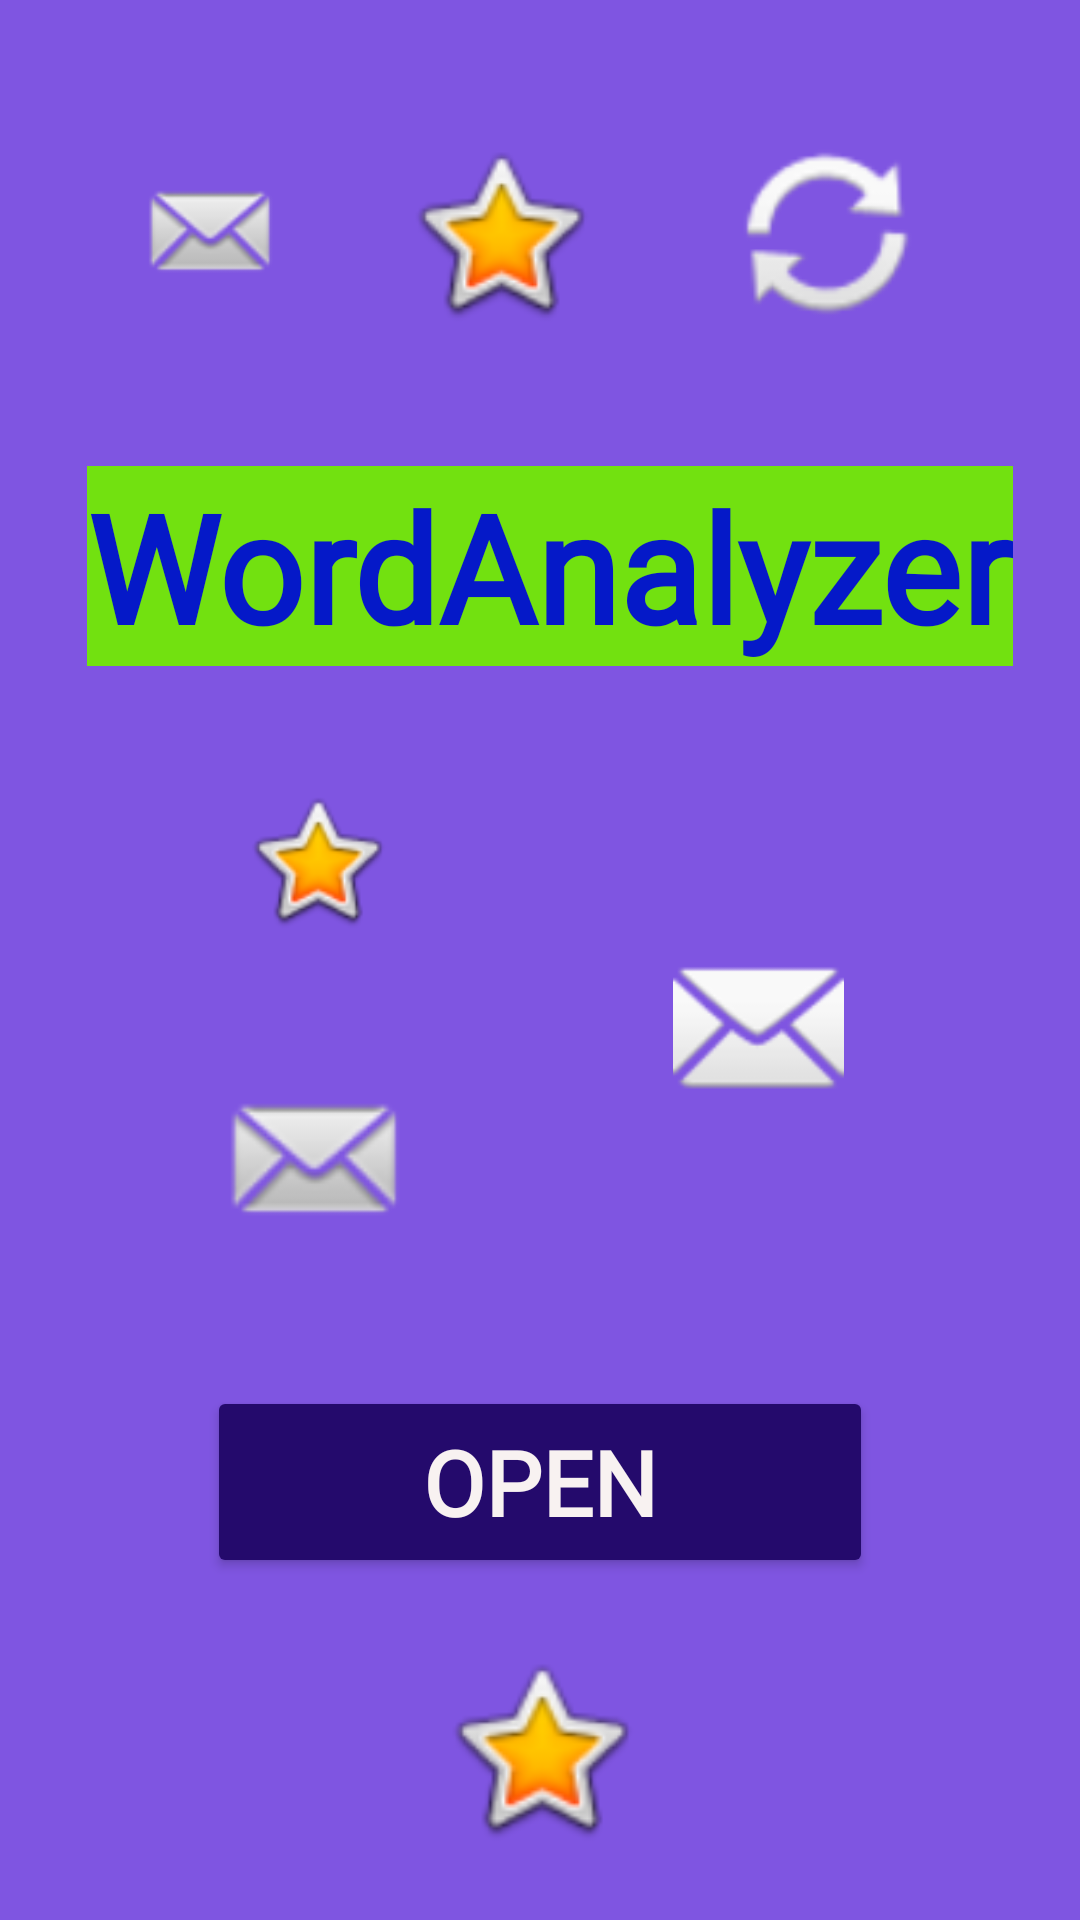

Screen size 1080px×1920px. Icon name, then its box in pixels as {"left": x1, "top": y1, "right": x2, "bottom": y2}:
email: {"left": 673, "top": 968, "right": 844, "bottom": 1088}
popup sync: {"left": 746, "top": 153, "right": 908, "bottom": 312}
star on: {"left": 419, "top": 155, "right": 584, "bottom": 315}, {"left": 255, "top": 800, "right": 382, "bottom": 924}, {"left": 456, "top": 1667, "right": 629, "bottom": 1835}
sym action email: {"left": 150, "top": 192, "right": 270, "bottom": 270}, {"left": 232, "top": 1105, "right": 396, "bottom": 1213}
